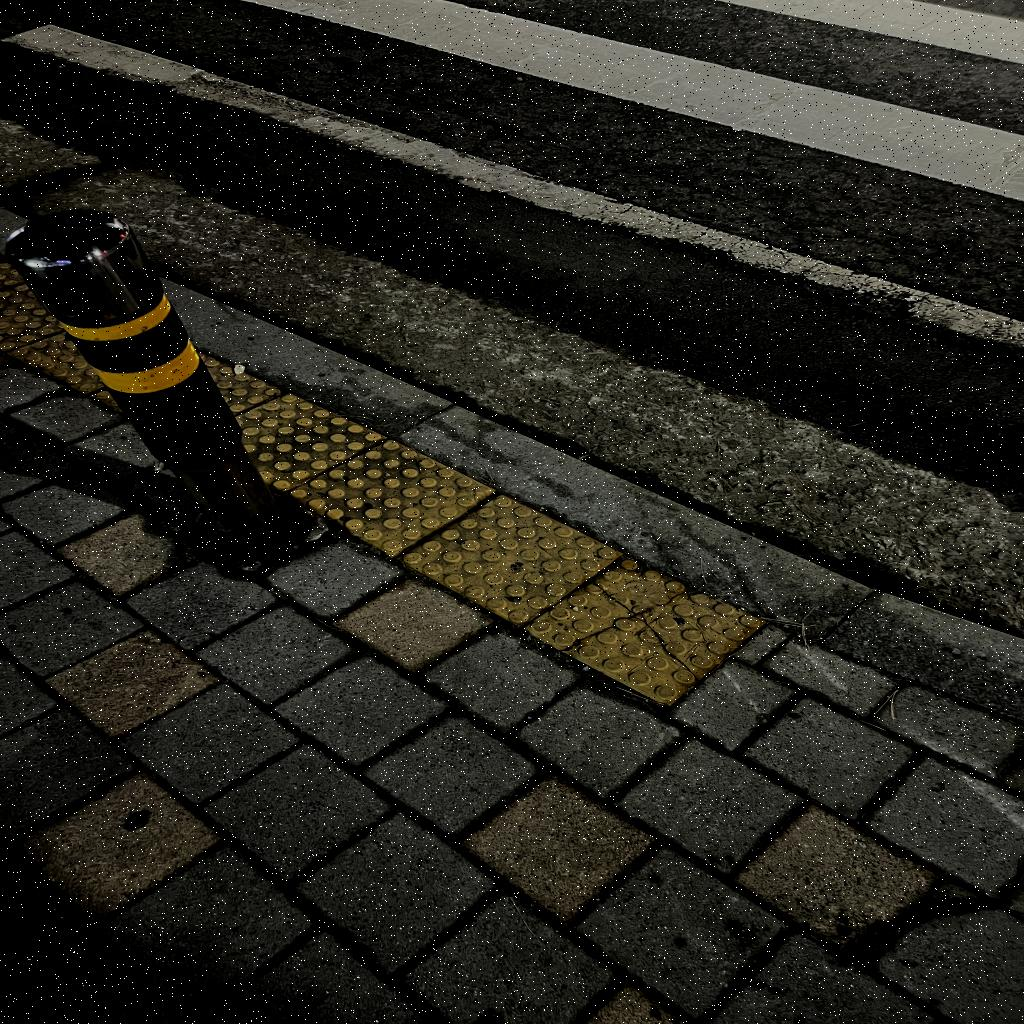Stop block broken: (520, 531, 766, 729)
Stop block normal: (397, 466, 621, 652), (290, 402, 493, 583)
